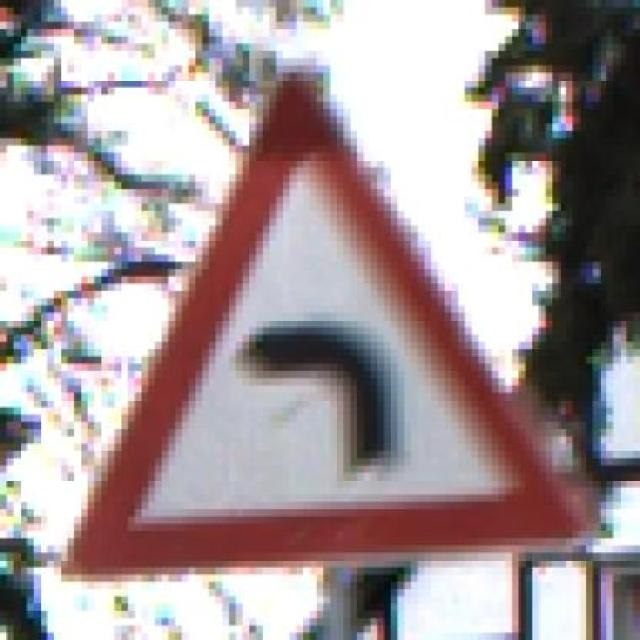Dangerous Left Curve Ahead: (68, 58, 600, 574)
